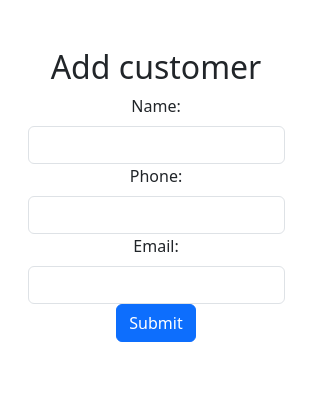
CustomerForm › shows validation errors on empty form submission
Click the button "Submit". click: click(156, 323)
box: 116,304 -> 196,342
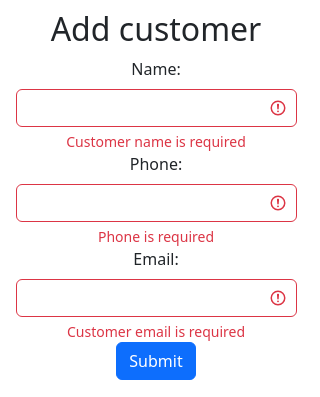
Expected: the text "Customer name is required" is shown, 66,132 -> 246,151
Expected: the text "Phone is required" is shown, 98,227 -> 214,246
Expected: the text "Customer email is required" is shown, 67,322 -> 245,341
